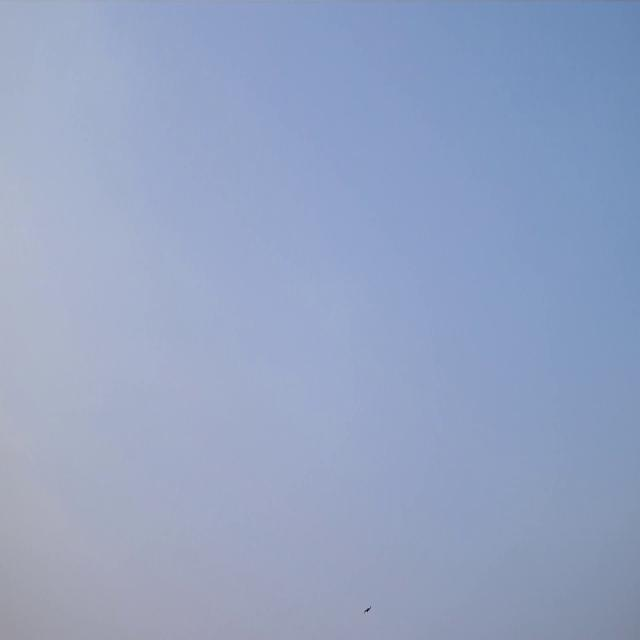UAV: (363, 604, 372, 616)
